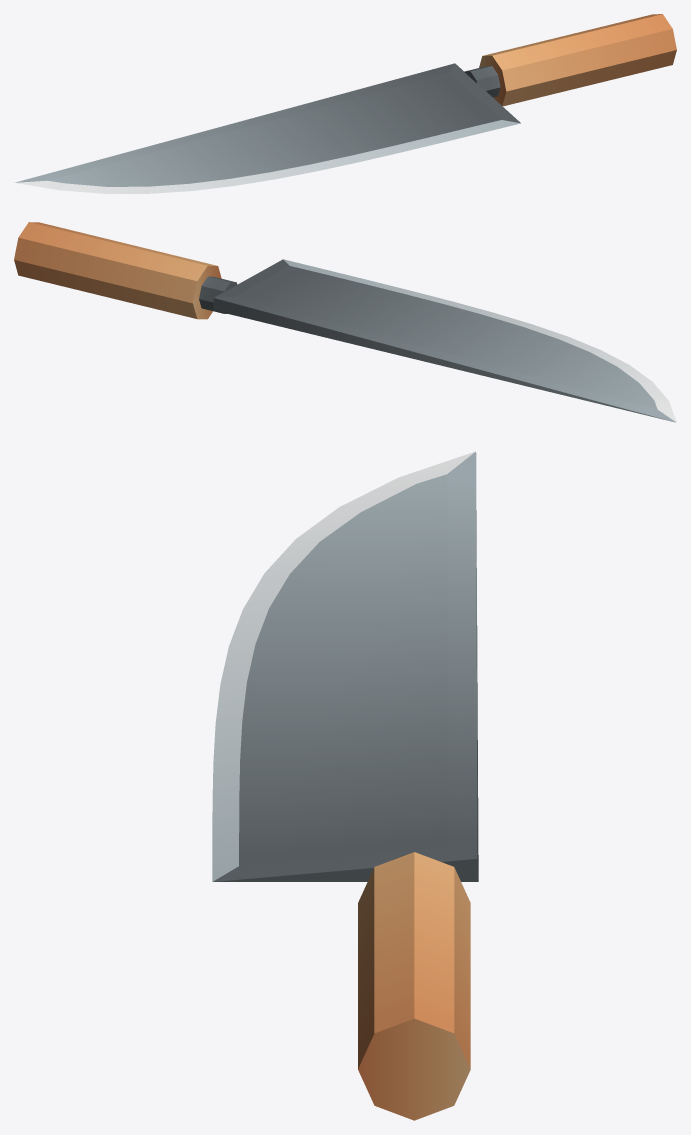
The model's file is knife.gltf.
3 renders of one model, top to bottom at view 1: azimuth 30°, elevation 25°; view 2: azimuth 150°, elevation 25°; view 3: azimuth 270°, elevation 25°, orthographic. The views are drawn at different scales.
Visible parts, largest first — view 1: NurbsPath, Cylinder; view 2: NurbsPath, Cylinder; view 3: NurbsPath, Cylinder.
Part boxes in pixels (left/top/right/bottom): NurbsPath: left=14, top=63, right=520, bottom=193; Cylinder: left=464, top=14, right=676, bottom=106; NurbsPath: left=213, top=259, right=676, bottom=422; Cylinder: left=14, top=222, right=237, bottom=319; NurbsPath: left=212, top=451, right=478, bottom=881; Cylinder: left=358, top=851, right=470, bottom=1120.
Size of the model in its own units: 5.19 by 0.4 by 0.9444.
Materials: 1 (1 with a texture image).
